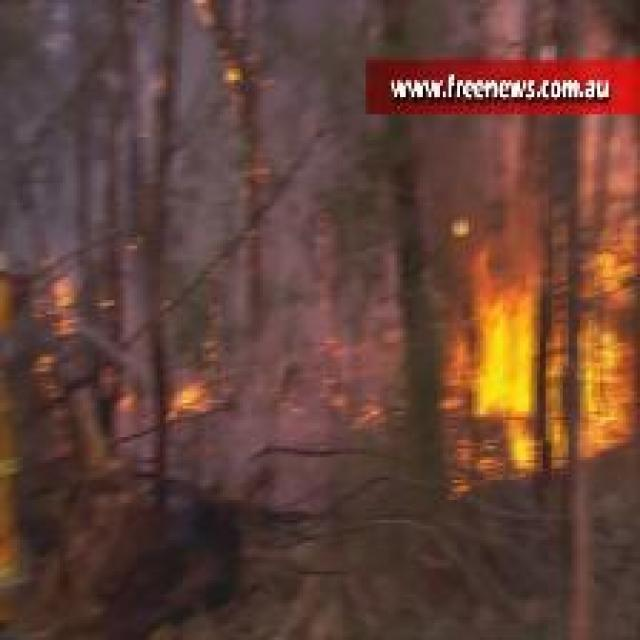Fire: (500, 200, 640, 480), (467, 246, 533, 417)
